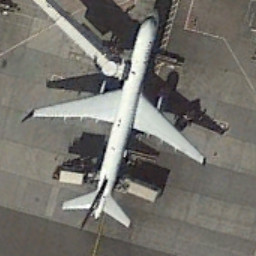Airplane: (16, 3, 213, 232)
